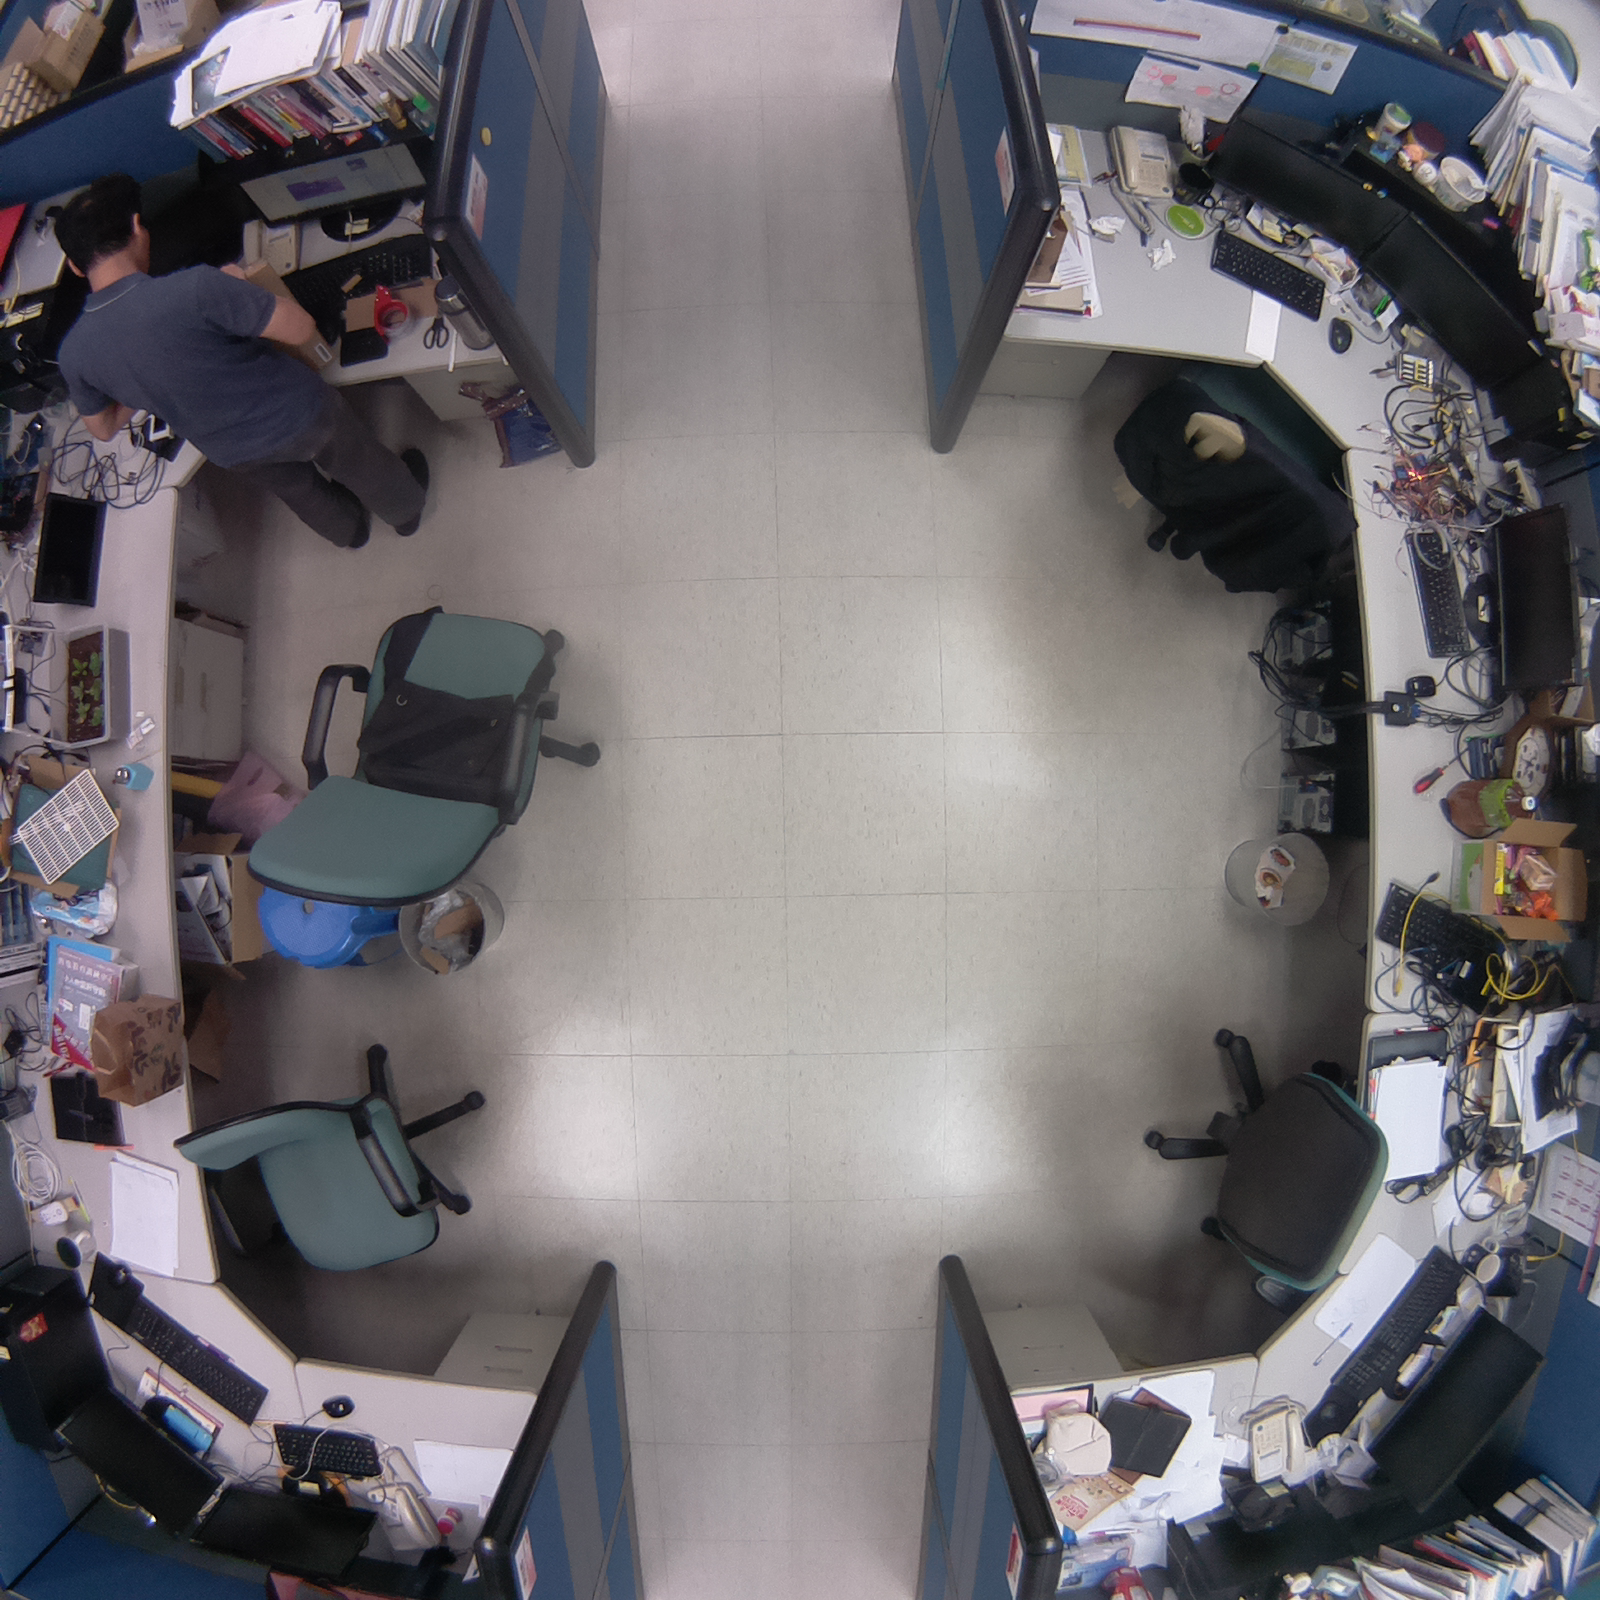head: (43, 172, 166, 274)
sitting: (224, 591, 609, 924), (165, 1042, 512, 1293), (1124, 1014, 1406, 1317), (1096, 337, 1368, 609)
standing: (19, 168, 445, 550)
